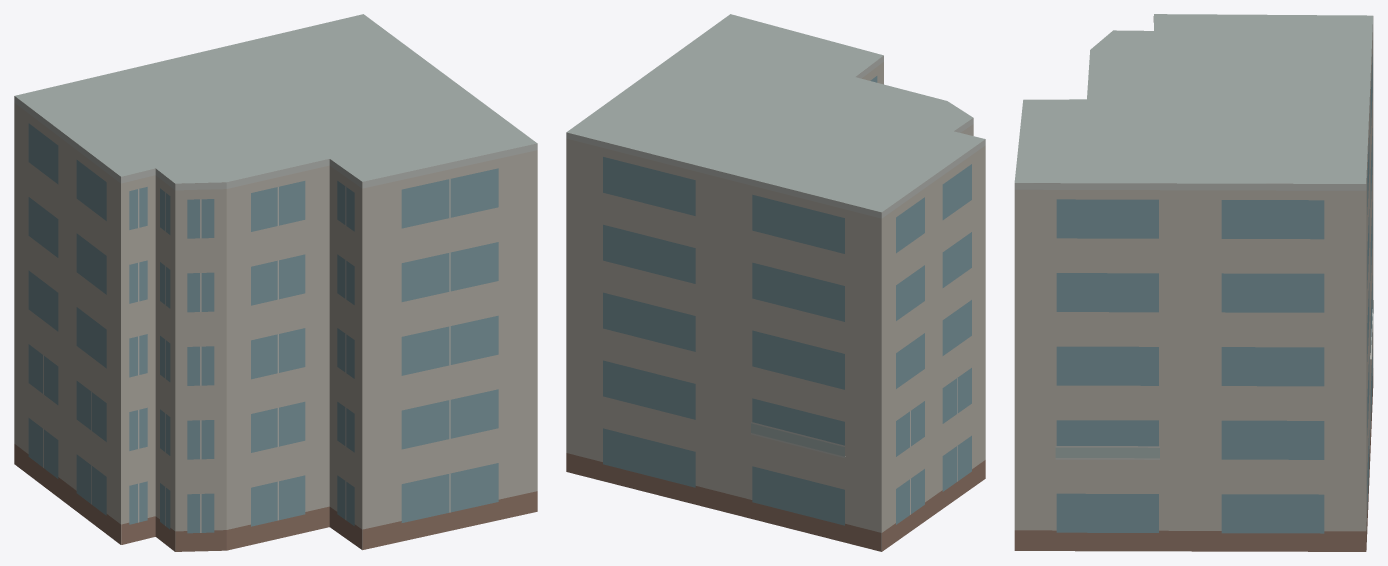
File: survey-upis-32768058.glb
3 views of the same model, side by side, from view 1: azimuth 30°, elevation 25°; view 2: azimuth 150°, elevation 25°; view 3: azimuth 270°, elevation 25° (orthographic). The views are drawn at different scales.
Visible parts, largest first — view 1: survey-upis-32768058.tmp; view 2: survey-upis-32768058.tmp; view 3: survey-upis-32768058.tmp.
Part boxes in pixels (left/top/right/bottom): survey-upis-32768058.tmp: left=14, top=14, right=537, bottom=551; survey-upis-32768058.tmp: left=566, top=14, right=985, bottom=551; survey-upis-32768058.tmp: left=1014, top=14, right=1373, bottom=551.
Size of the model in its own units: 13.19 by 13.3 by 11.77.
